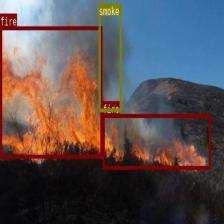fire: (0, 26, 102, 157), (102, 114, 210, 168)
smoke: (98, 2, 121, 111)
